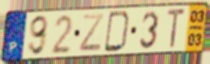2: (50, 14, 75, 56)
3: (139, 10, 160, 50)
9: (26, 14, 50, 57)
D: (102, 10, 132, 54)
T: (166, 8, 187, 50)
Z: (78, 12, 105, 52)
